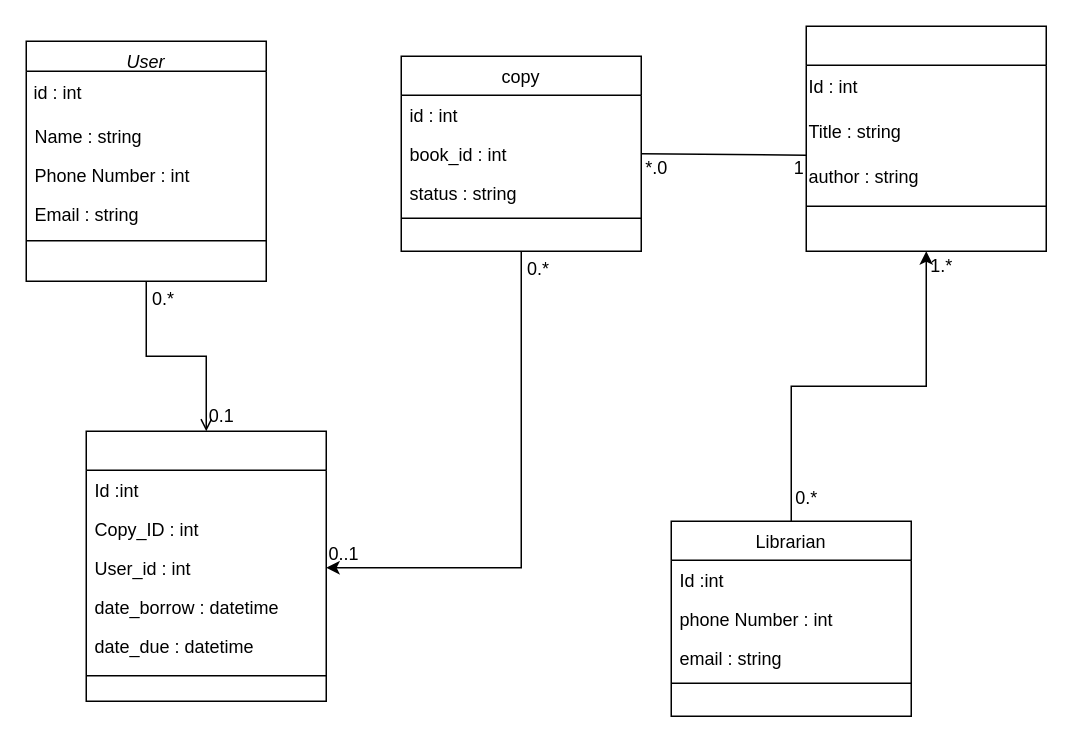
The diagram is 1073 pixels wide and 743 high, and some of its shapes have lost their labels. Here are the shapes that lost their labels. From the top down, the box of each, then its label:
(805, 25, 1046, 251): Book
(85, 430, 326, 701): Loan
